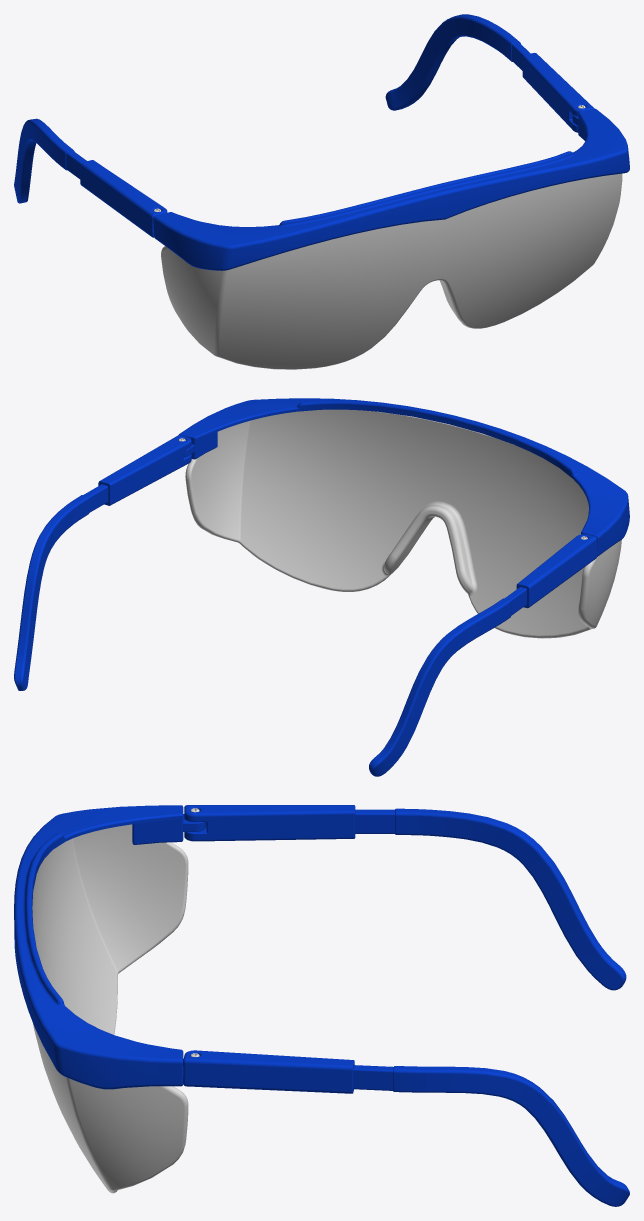
Rendered from Óculos de proteção v1.fbx.
3 views of the same model, one above another, from view 1: azimuth 30°, elevation 25°; view 2: azimuth 150°, elevation 25°; view 3: azimuth 270°, elevation 25° (orthographic). The views are drawn at different scales.
Parts seen in each view (by area): view 1: Body1, Body3, Body5, Body4; view 2: Body1, Body3, Body4, Body5; view 3: Body1, Body3, Body4, Body5.
Part boxes in pixels (x1,y1,x2,y2): Body1: (161, 173, 622, 369); Body3: (153, 108, 629, 270); Body5: (385, 14, 594, 132); Body4: (14, 118, 167, 237); Body1: (185, 409, 621, 638); Body3: (179, 398, 629, 556); Body4: (369, 534, 596, 776); Body5: (14, 435, 191, 690); Body1: (32, 824, 188, 1193); Body3: (14, 805, 206, 1089); Body4: (184, 805, 626, 990); Body5: (183, 1050, 629, 1206).
Size of the model in its own units: 159 by 61.09 by 157.
